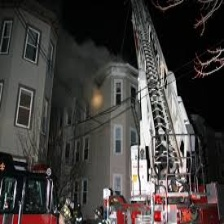smoke: (61, 43, 100, 111)
